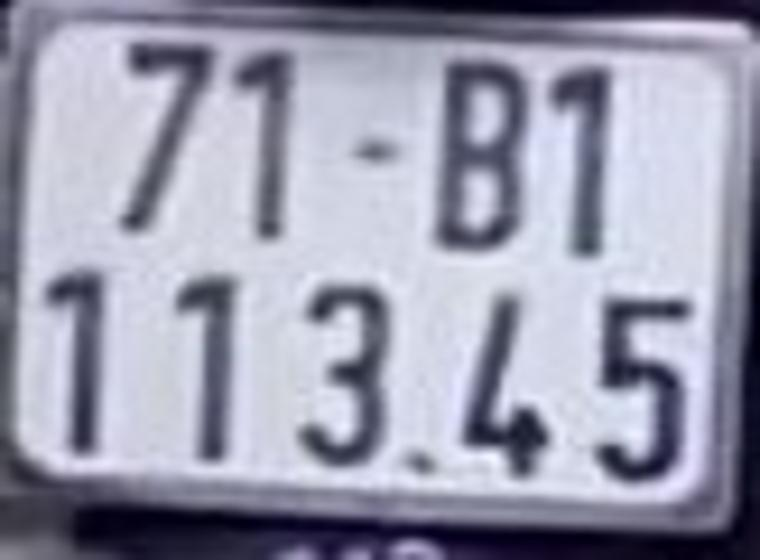-: (347, 132, 403, 174)
.: (397, 444, 439, 481)
1: (174, 260, 249, 463), (229, 47, 305, 243), (46, 260, 110, 467), (546, 59, 606, 268)
3: (293, 278, 391, 467)
4: (590, 291, 695, 488), (454, 291, 558, 486)
7: (116, 30, 220, 243)
B: (438, 58, 536, 260)
